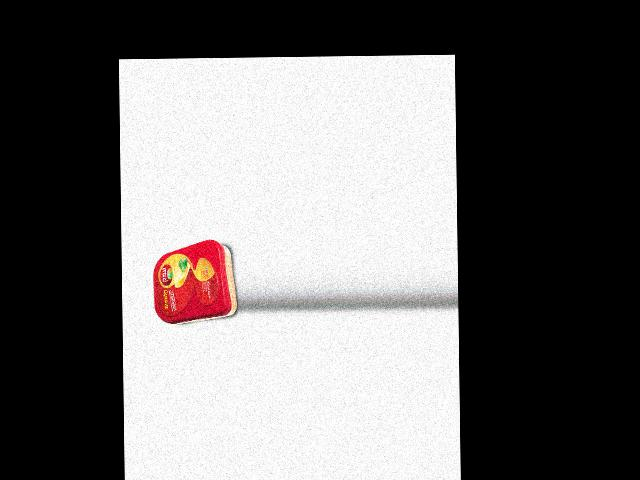cheese: (152, 239, 237, 324)
